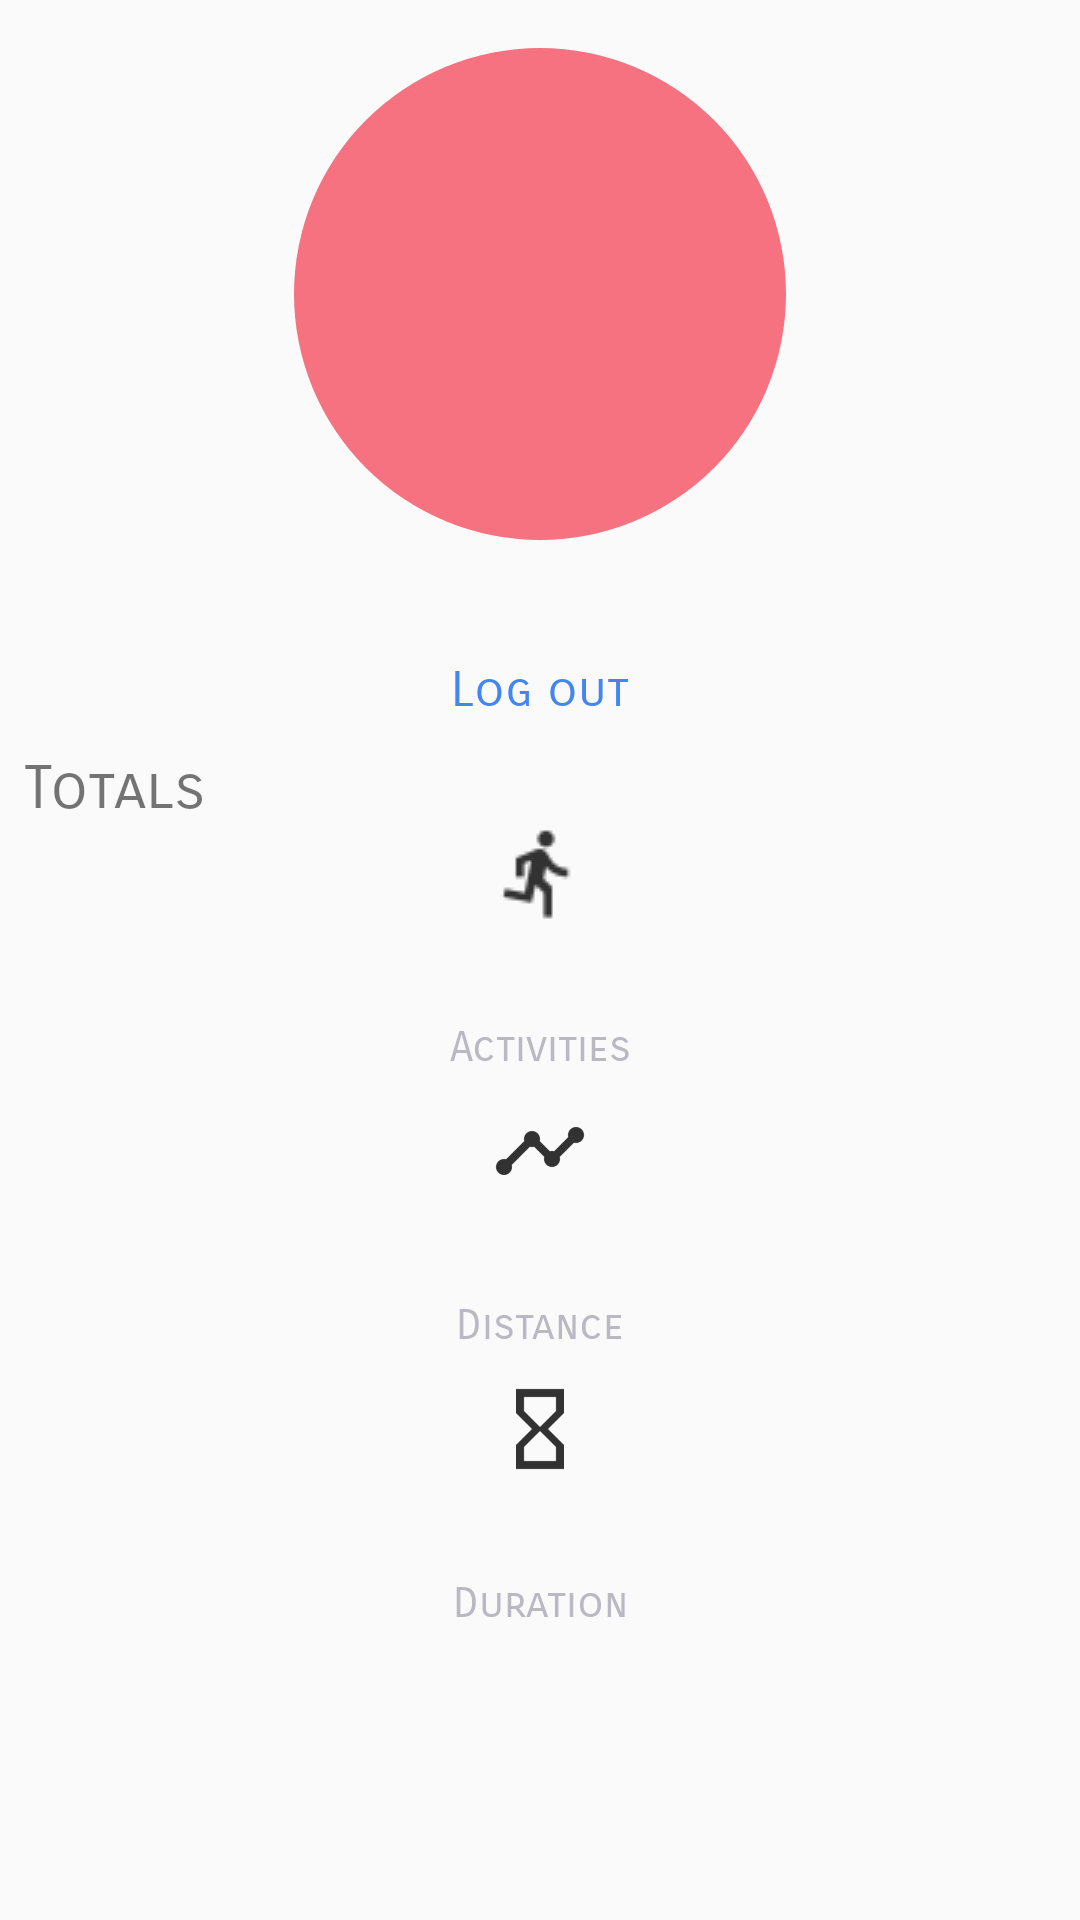

Point at icon controls on the screen. Image size 1080px x 1920px, points as (x=x, y=y).
time: (x=540, y=1429)
